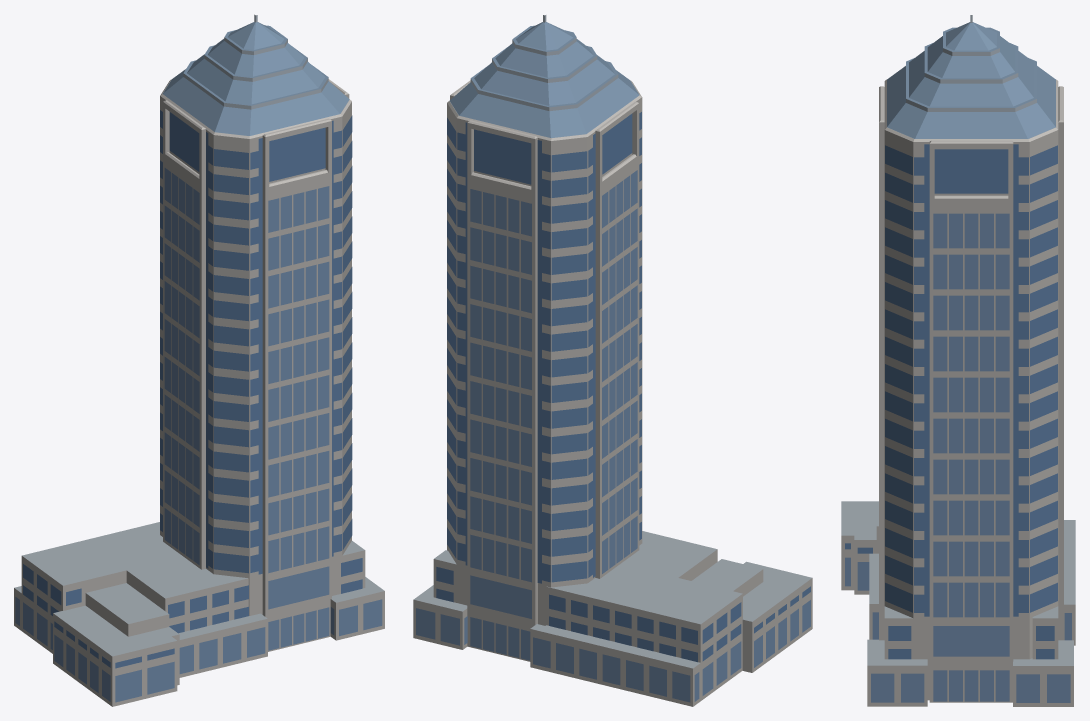
Rendered from jax-bank-of-america-tower.glb.
3 renders of one model, left to right at view 1: azimuth 30°, elevation 25°; view 2: azimuth 150°, elevation 25°; view 3: azimuth 270°, elevation 25°, orthographic. The views are drawn at different scales.
Visible parts, largest first — view 1: Bank of America Tower; view 2: Bank of America Tower; view 3: Bank of America Tower.
Boxes of the visible parts, x1,y1,x2,y2 form: Bank of America Tower: (14, 14, 384, 706); Bank of America Tower: (413, 15, 812, 706); Bank of America Tower: (841, 15, 1075, 706).
Bounding box in the file's own units: 94.92 × 190 × 62.22.
